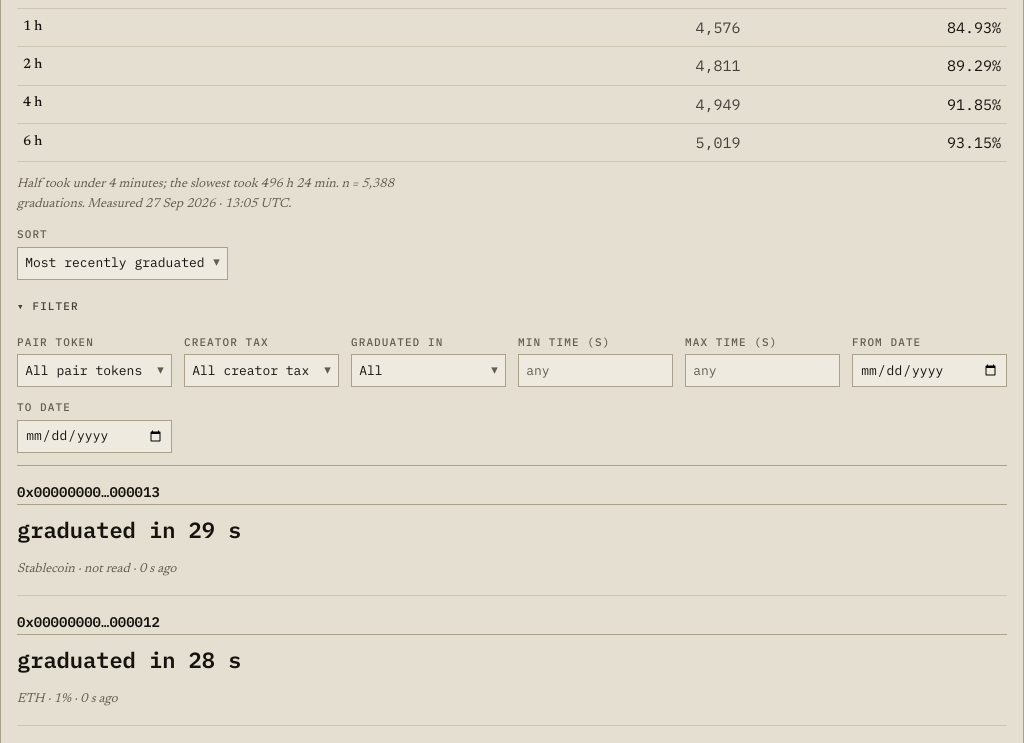
Scenario: GraduatedBoard's build-time first page › resets every filter and returns to the unfiltered total on request
(page scrolled)
Select "ETH" in the dropdown labelled "Pair token": (87, 371) [25,355,149,386]
(page scrolled)
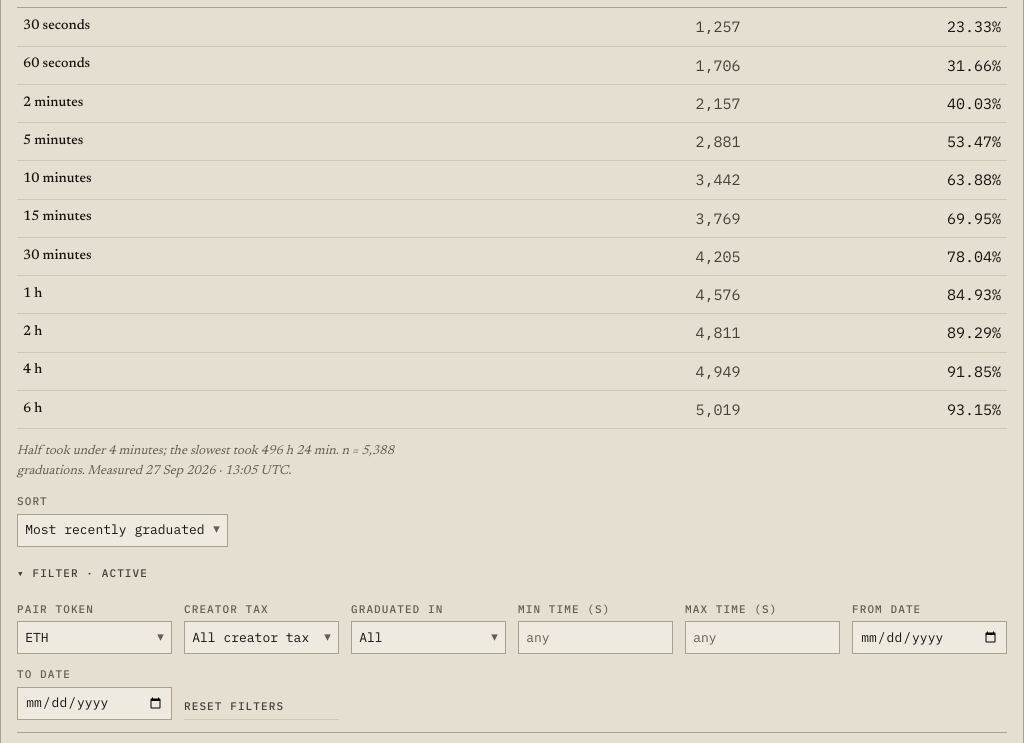
Now the link with class "board-filters-reset" is shown
Click the link with class "board-filters-reset": (262, 709) [184,698,339,720]
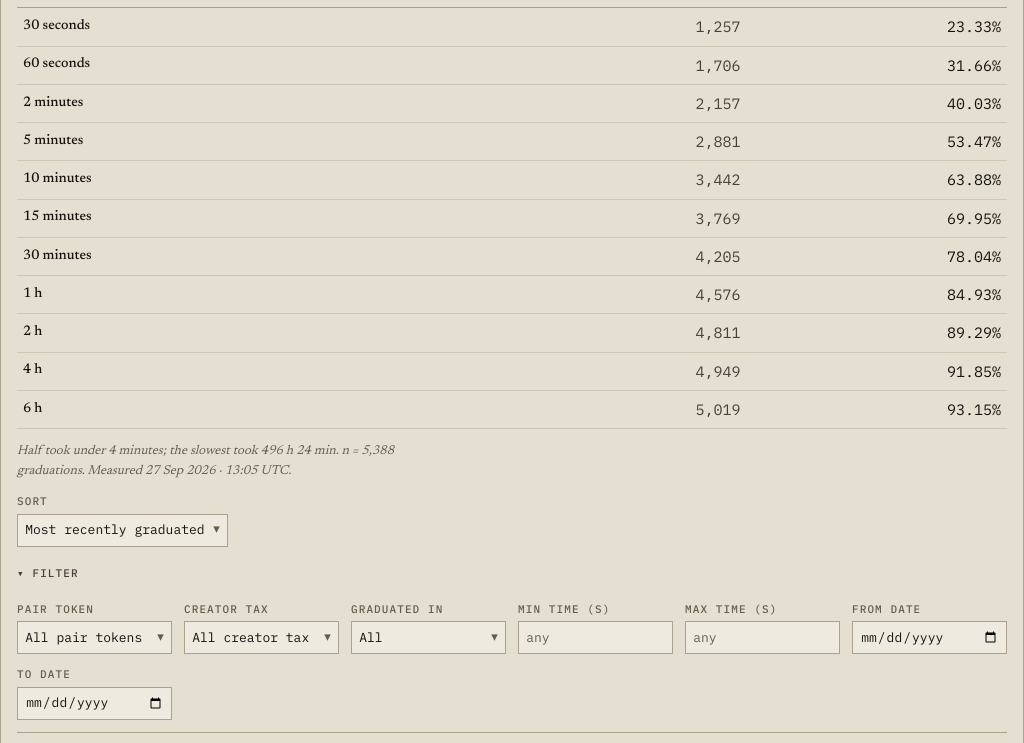
Now the link with class "board-filters-reset" is gone
